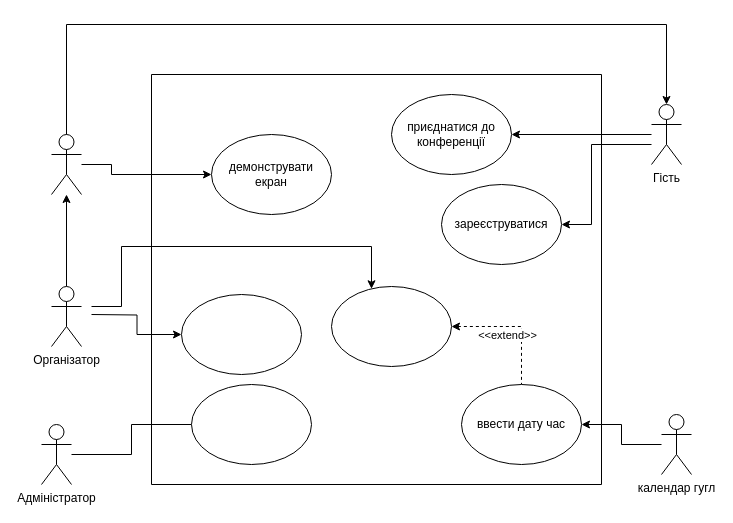
Some shapes in this 733 by 523 pixel diagram are drawn without their labels. Each missing label, with the centre of its shape:
керувати учасниками: (x=241, y=334)
Користувач: (x=66, y=164)
налаштовувати сервер запису і керувати ліцензіями: (x=251, y=424)
створювати конференції: (x=391, y=326)
